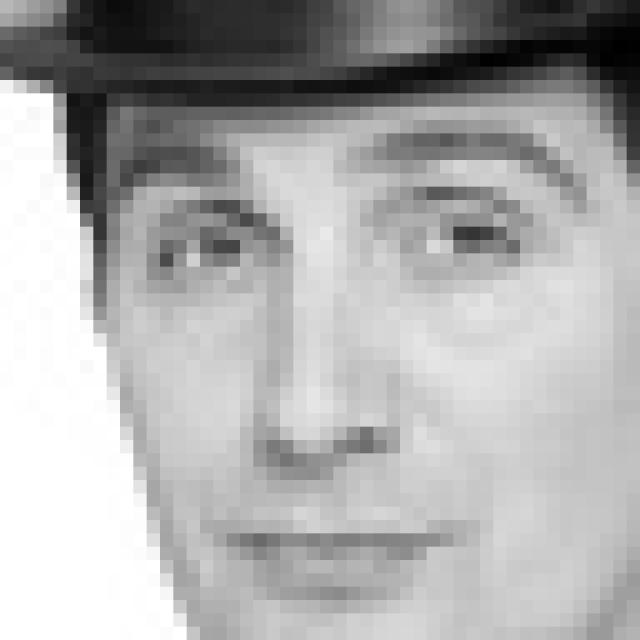neutral: (105, 120, 589, 603)
